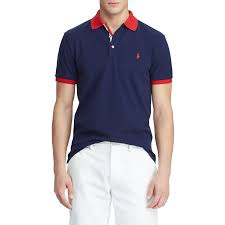S_polo shirt: (44, 16, 181, 153)
